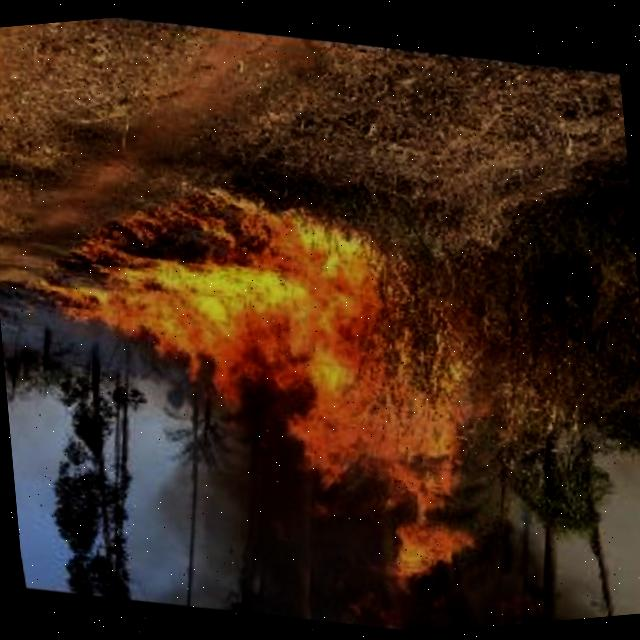fire: (0, 129, 543, 640)
